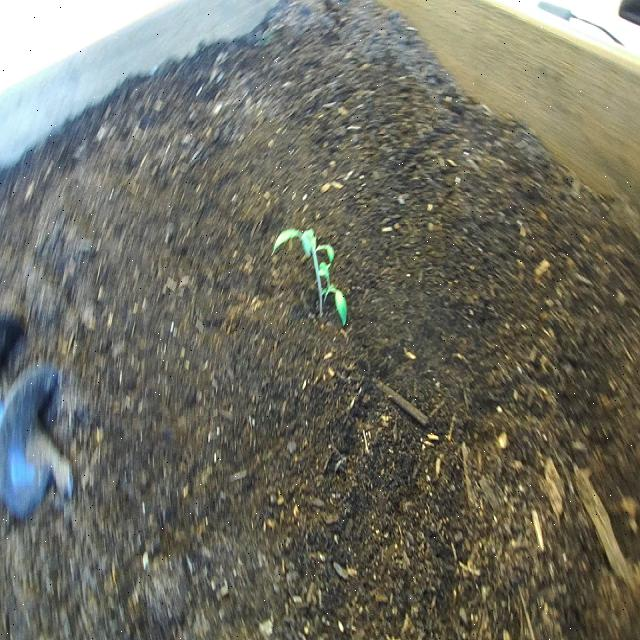Healthy: (266, 201, 356, 351)
